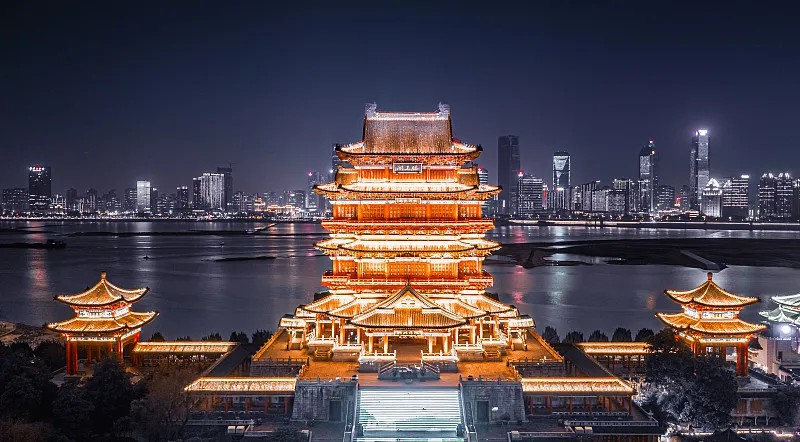Teng: (278, 101, 535, 361)
